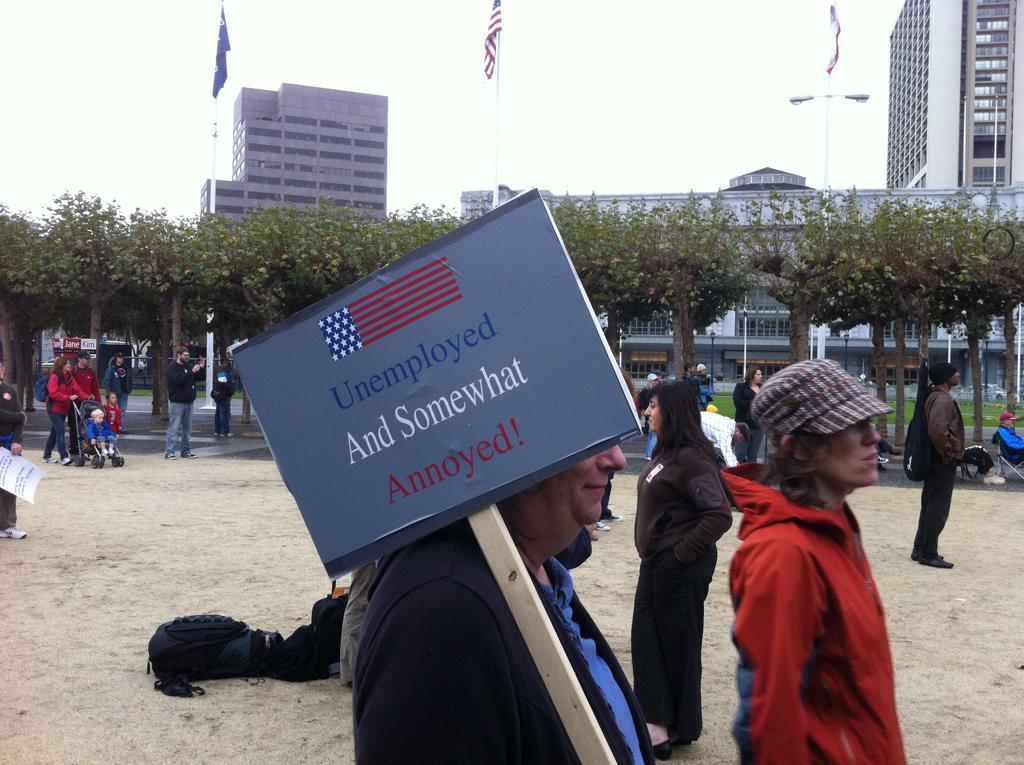face: (488, 378, 627, 523), (814, 405, 882, 483), (645, 396, 672, 431), (946, 370, 962, 384), (730, 429, 745, 443), (1, 363, 10, 380), (1005, 416, 1015, 427), (754, 371, 763, 383), (82, 355, 91, 366), (96, 414, 105, 425), (181, 352, 189, 364), (63, 361, 72, 371), (651, 378, 658, 390), (110, 395, 117, 404), (689, 367, 696, 375), (117, 355, 124, 363), (700, 368, 706, 375), (223, 361, 229, 368)
